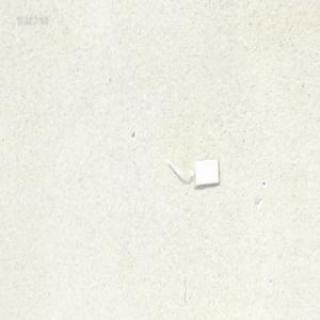LuggageTagtrack_idkeyframe: (166, 155, 220, 186)
